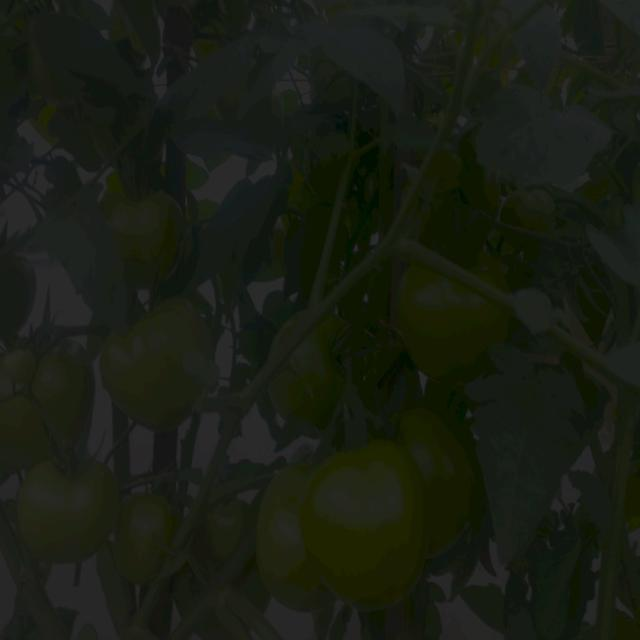tomato: (309, 446, 425, 605), (398, 260, 509, 376), (118, 304, 223, 425), (398, 408, 480, 554), (262, 458, 335, 608), (22, 461, 127, 562), (269, 337, 366, 429), (8, 343, 104, 434), (112, 489, 179, 581), (118, 193, 182, 279), (1, 381, 55, 472), (507, 186, 554, 227), (213, 501, 239, 568)
